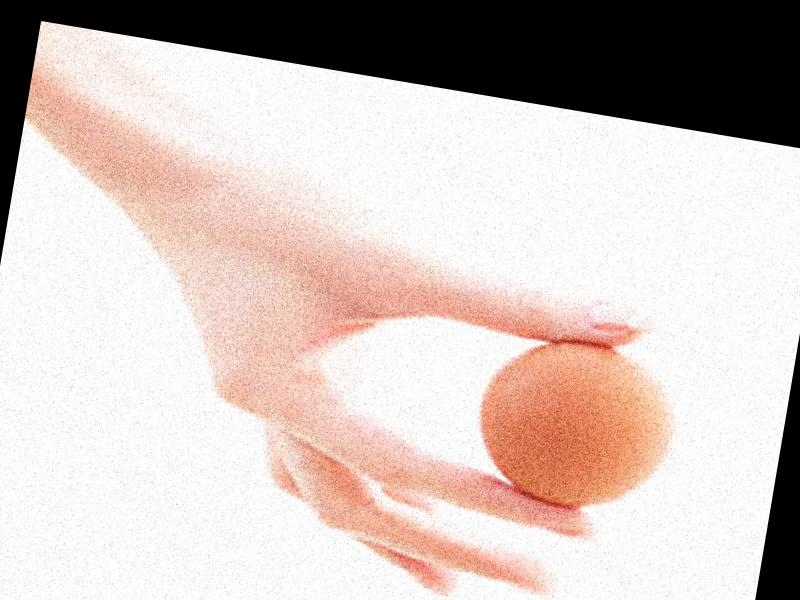Eggs: (471, 326, 683, 523)
